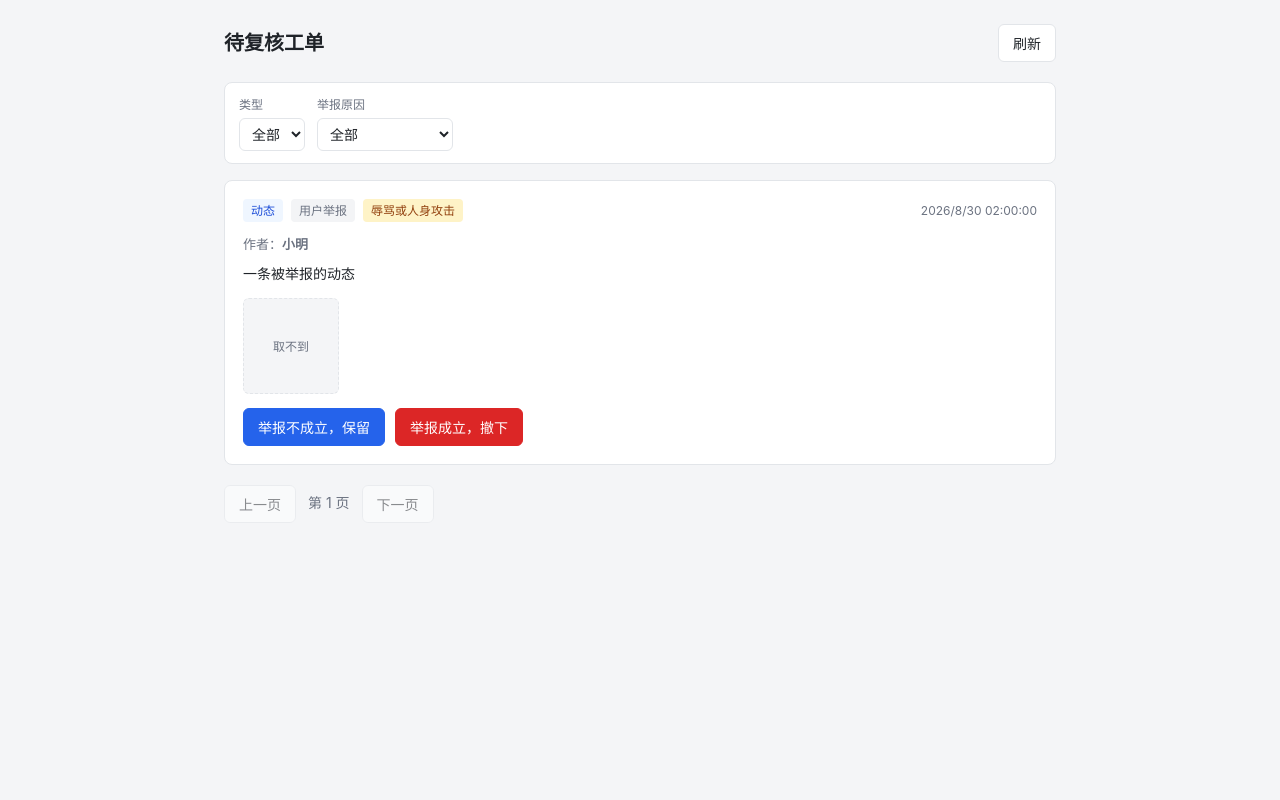
Scenario: 图片取不到时 › 占位仍然可点，点开能看到原因说明
Click the button "取不到": (291, 346) [243,298,339,394]
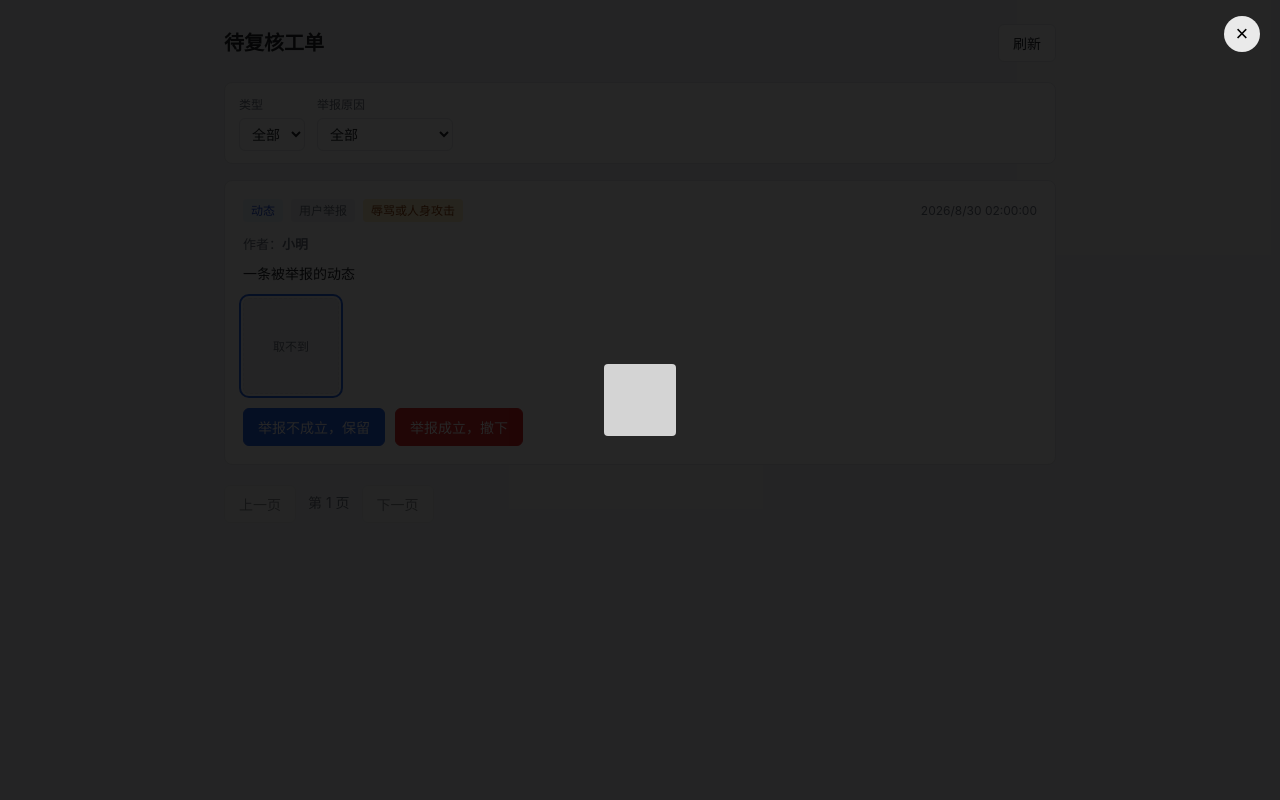
Result: the dialog named "图片预览" is shown
